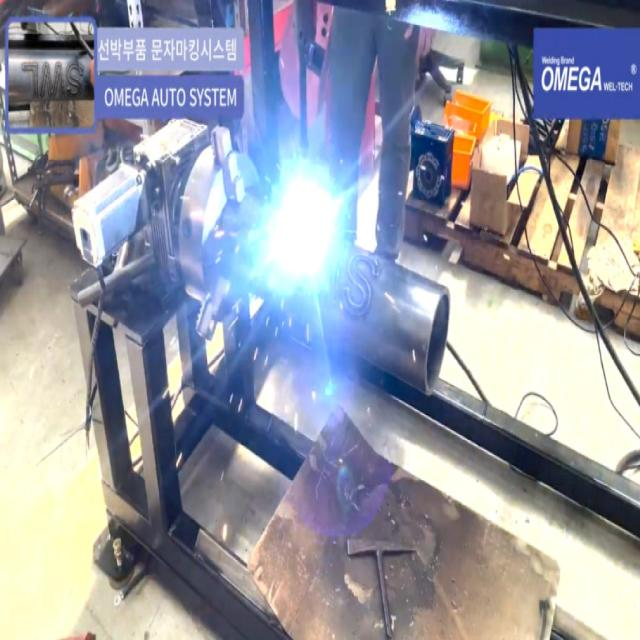welding: (273, 156, 342, 290)
